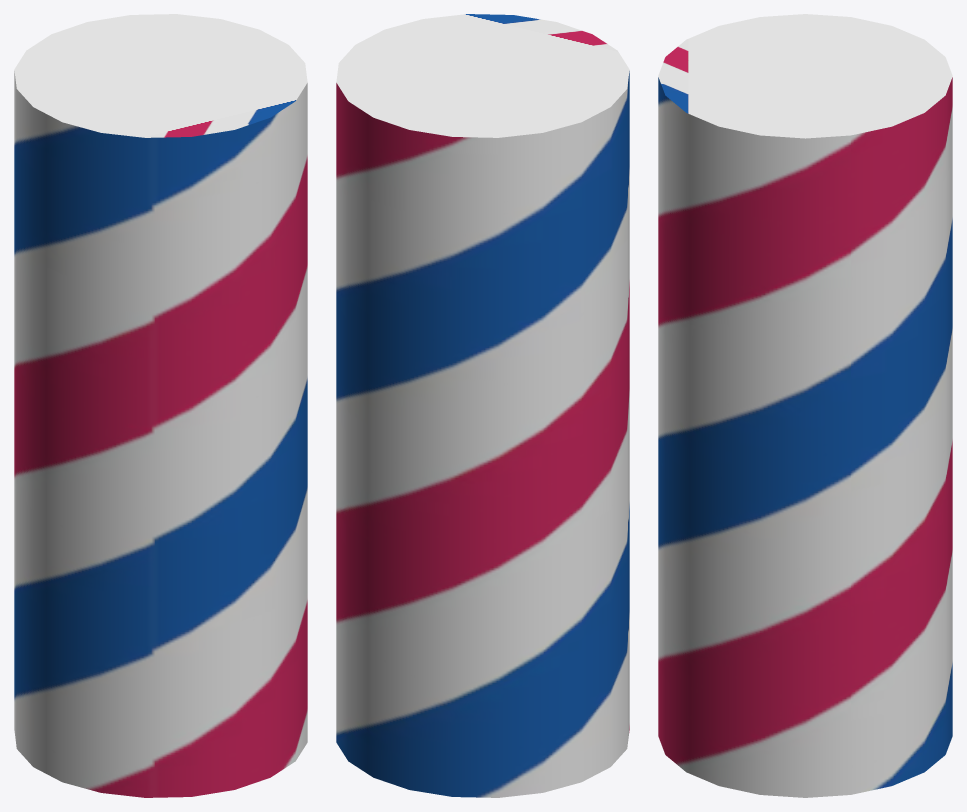
The model's file is roller.fbx.
The picture shows the model from 3 angles, left to right: view 1: azimuth 30°, elevation 25°; view 2: azimuth 150°, elevation 25°; view 3: azimuth 270°, elevation 25°; orthographic projection.
Parts seen in each view (by area): view 1: pCylinder1; view 2: pCylinder1; view 3: pCylinder1.
Boxes of the visible parts, x1,y1,x2,y2 form: pCylinder1: (14,14,307,797); pCylinder1: (336,14,629,797); pCylinder1: (658,14,952,797).
Bounding box in the file's own units: 2 × 4.94 × 2.
Materials: 1 (1 with a texture image).
